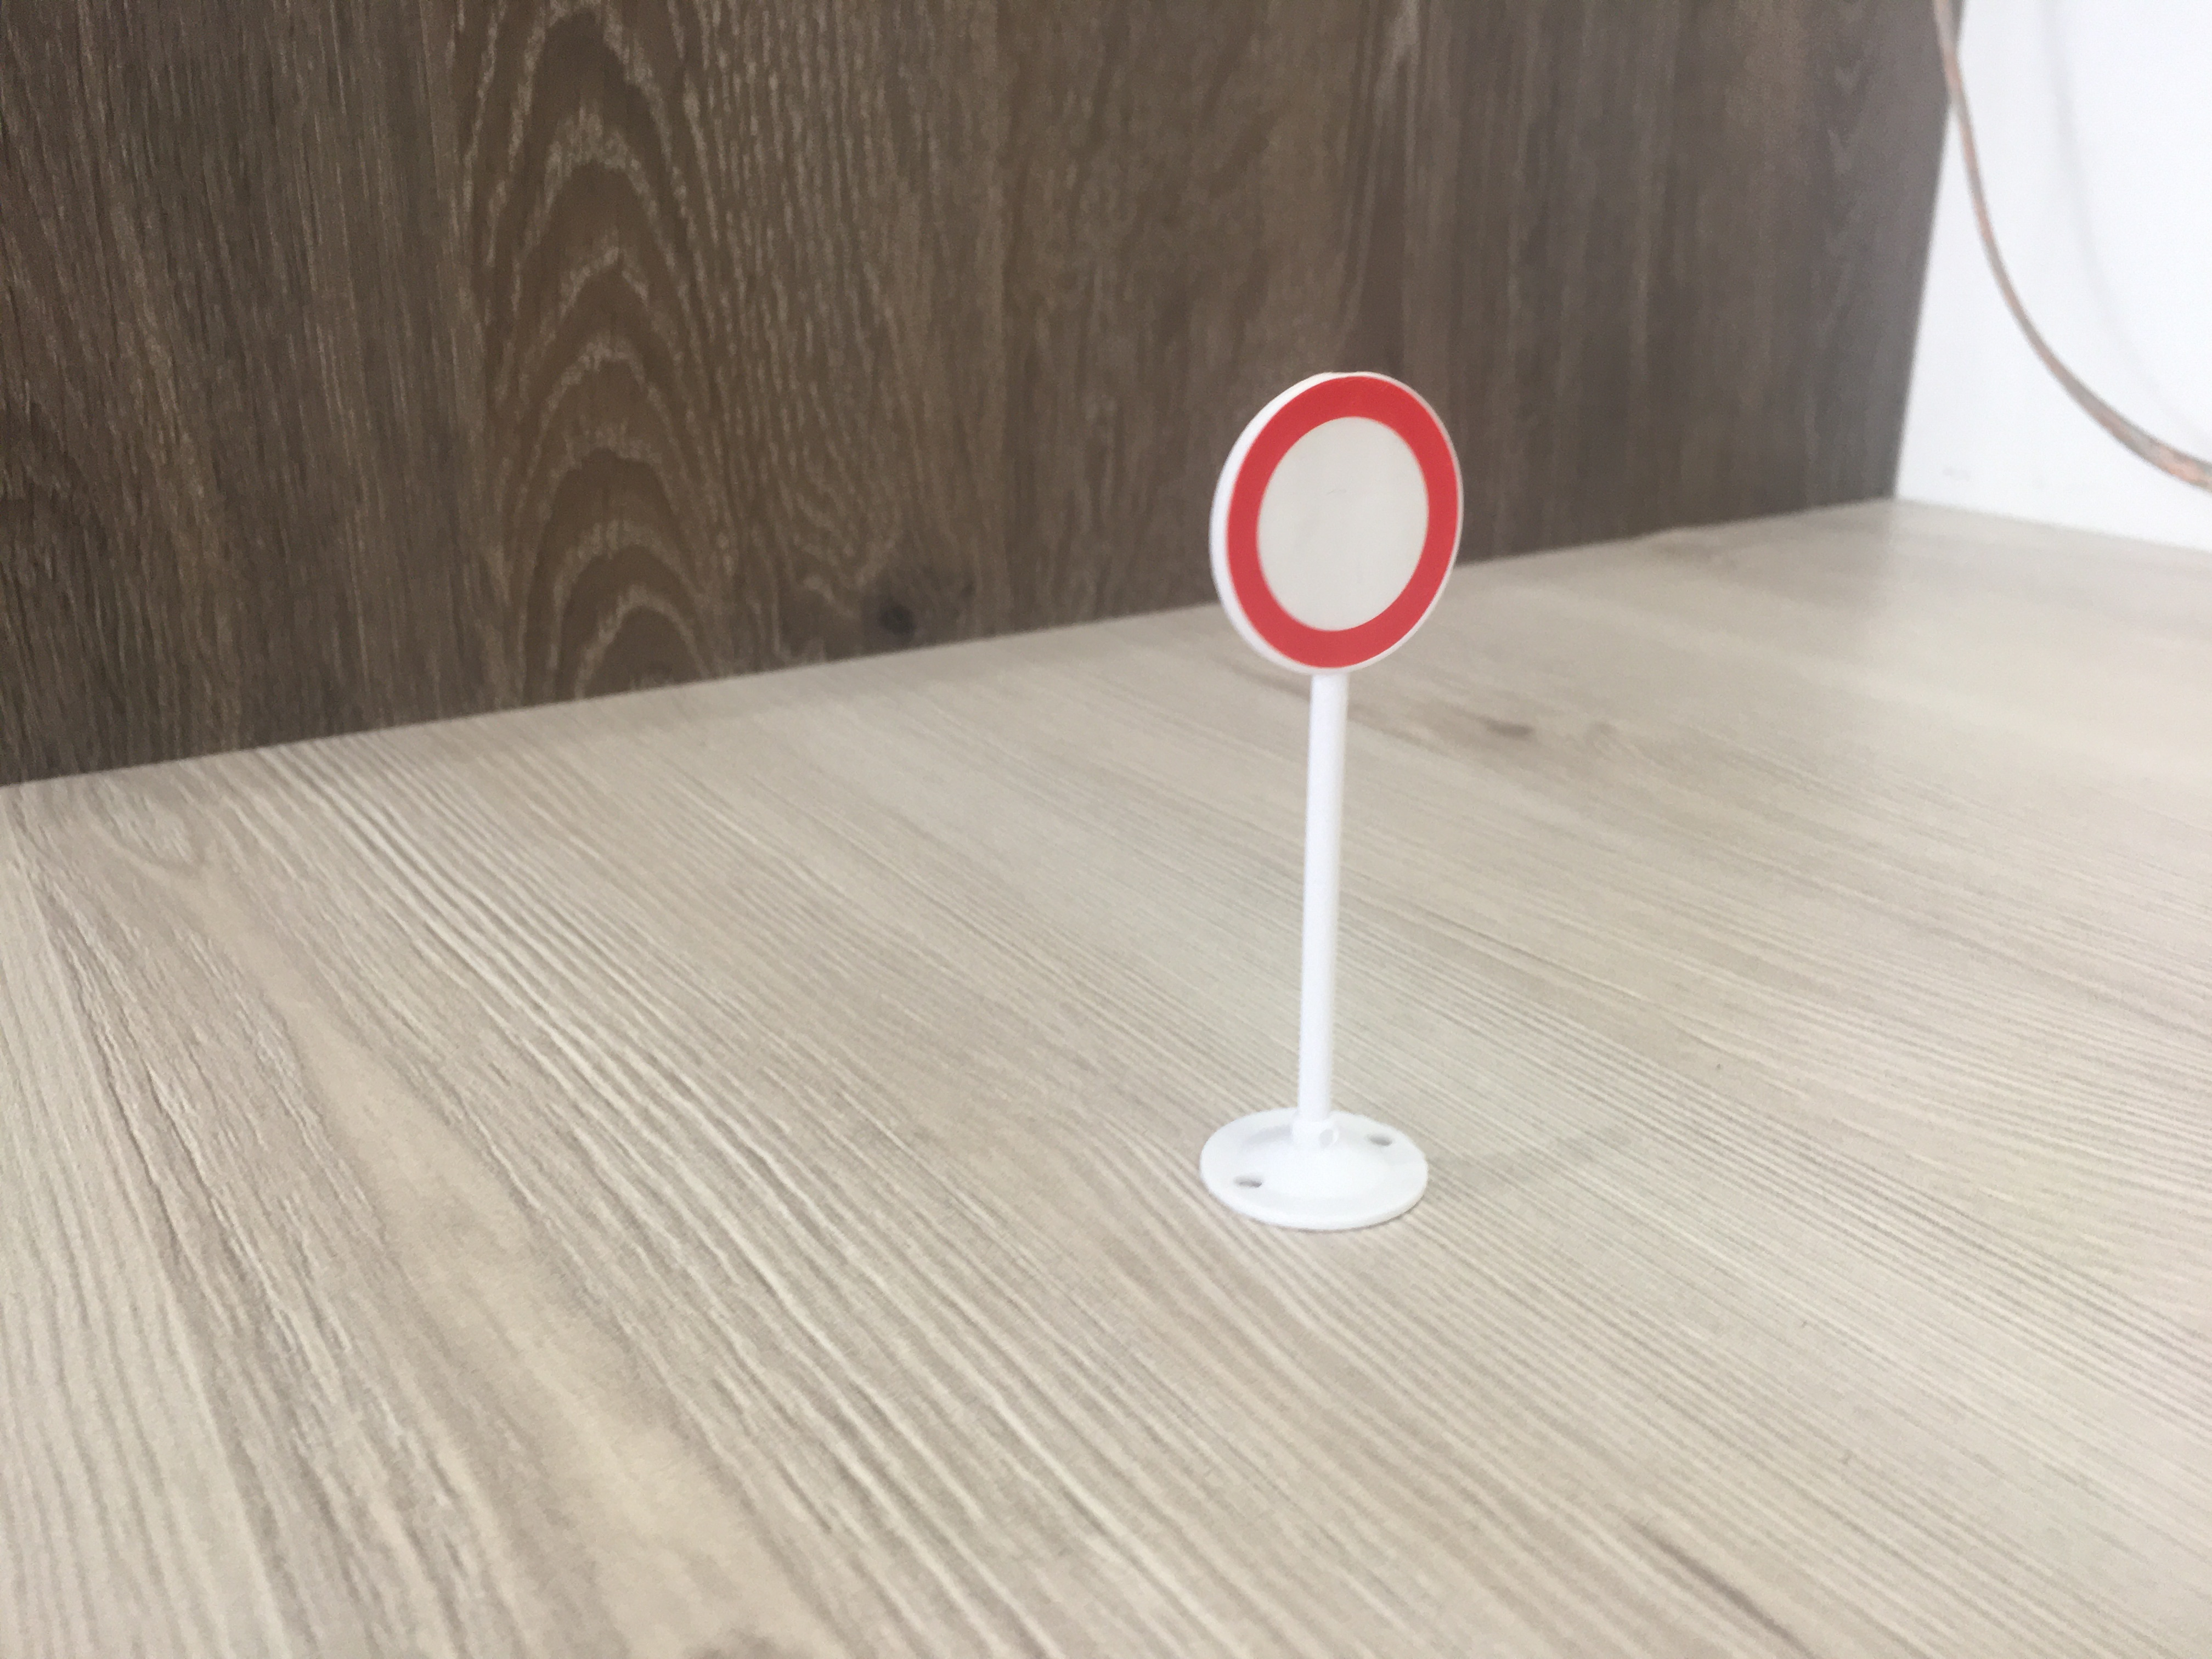noDrive: (1204, 369, 1468, 673)
